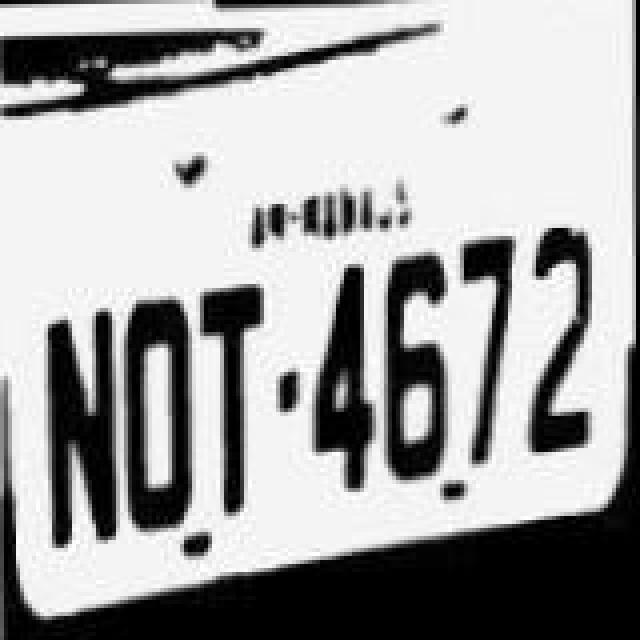2: (522, 216, 606, 460)
4: (300, 262, 384, 498)
6: (368, 252, 456, 488)
7: (454, 228, 530, 472)
N: (34, 298, 130, 546)
O: (116, 292, 200, 532)
T: (194, 286, 274, 522)
